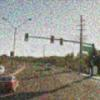cars: (0, 74, 19, 94)
